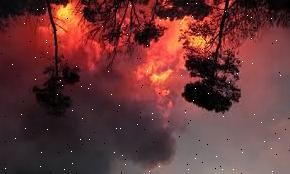fire: (34, 0, 222, 121)
